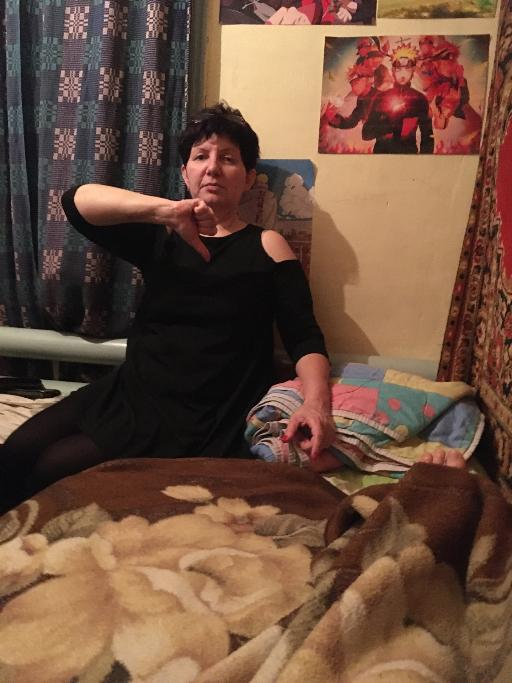dislike: (170, 196, 218, 263)
no_gesture: (280, 402, 337, 459)
